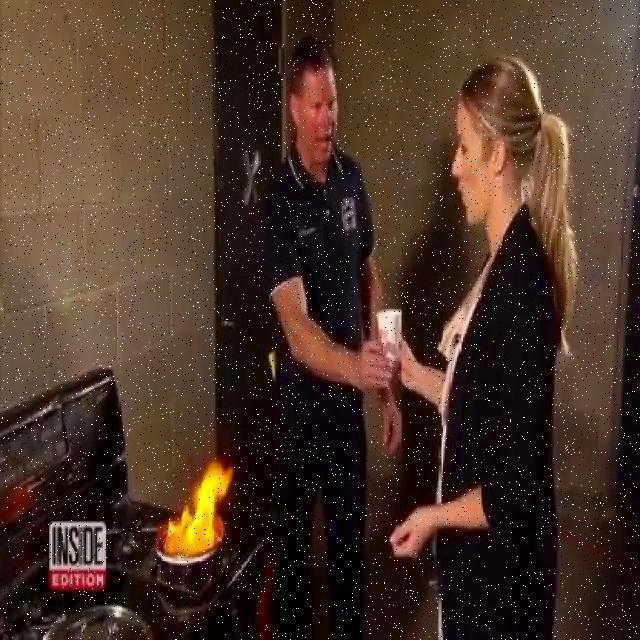smoke: (146, 432, 262, 571)
